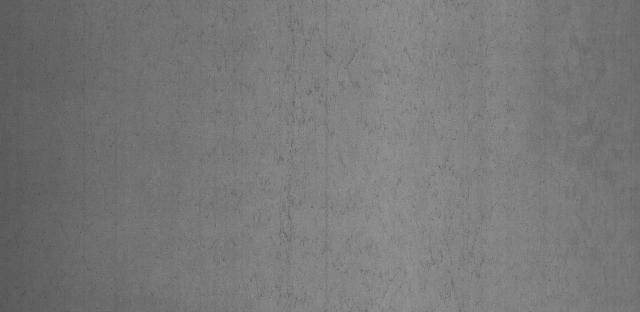silk_spot: (174, 5, 528, 281)
